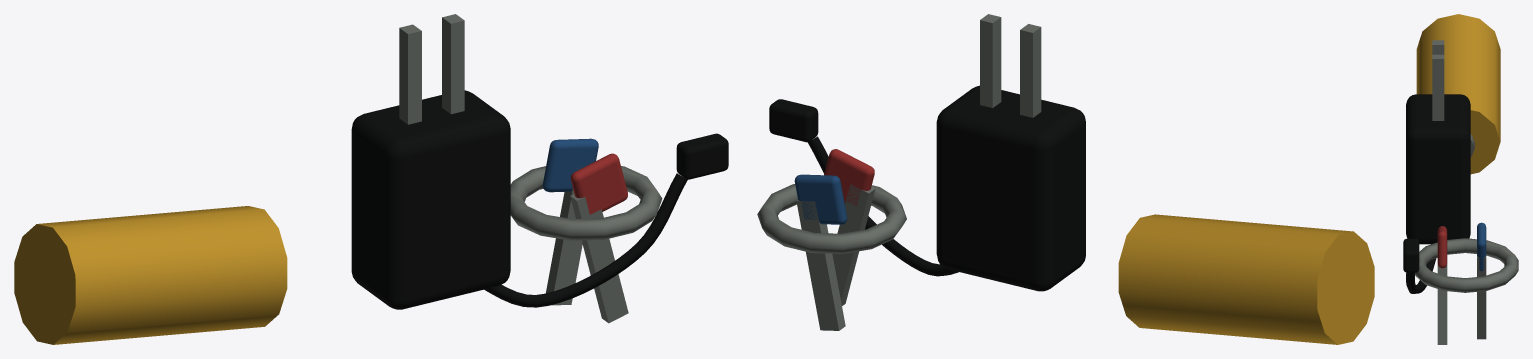
Rendered from ucb_survival_pickup_set_psx.glb.
The picture shows the model from 3 angles, left to right: view 1: azimuth 30°, elevation 25°; view 2: azimuth 150°, elevation 25°; view 3: azimuth 270°, elevation 25°; orthographic projection. The views are drawn at different scales.
Visible parts, largest first — view 1: battery_body, charger_brick, keyring, plug_prong (×2), key_head (×2), charger_cable, key_2, nokia_plug, key_1; view 2: battery_body, charger_brick, keyring, plug_prong (×2), key_head (×2), key_1, key_2, nokia_plug, charger_cable; view 3: charger_brick, battery_body, keyring, plug_prong (×2), key_head (×2), key_2, key_1, nokia_plug, charger_cable.
Boxes of the visible parts, x1=… form: battery_body: x1=14, y1=206, x2=287, y2=344; charger_brick: x1=351, y1=90, x2=510, y2=309; keyring: x1=510, y1=166, x2=662, y2=240; plug_prong (×2): x1=399, y1=14, x2=464, y2=124; key_head (×2): x1=542, y1=138, x2=627, y2=214; charger_cable: x1=484, y1=173, x2=687, y2=307; key_2: x1=570, y1=194, x2=628, y2=323; nokia_plug: x1=676, y1=133, x2=728, y2=179; key_1: x1=546, y1=167, x2=582, y2=305; battery_body: x1=1118, y1=214, x2=1374, y2=344; charger_brick: x1=936, y1=85, x2=1085, y2=291; keyring: x1=757, y1=184, x2=906, y2=253; plug_prong (×2): x1=980, y1=14, x2=1041, y2=117; key_head (×2): x1=794, y1=149, x2=874, y2=224; key_1: x1=796, y1=200, x2=845, y2=330; key_2: x1=832, y1=184, x2=875, y2=305; nokia_plug: x1=769, y1=99, x2=818, y2=142; charger_cable: x1=808, y1=136, x2=958, y2=276; charger_brick: x1=1406, y1=94, x2=1470, y2=244; battery_body: x1=1416, y1=14, x2=1500, y2=174; keyring: x1=1415, y1=238, x2=1518, y2=292; plug_prong (×2): x1=1432, y1=40, x2=1444, y2=120; key_head (×2): x1=1437, y1=222, x2=1486, y2=271; key_2: x1=1437, y1=264, x2=1447, y2=344; key_1: x1=1477, y1=256, x2=1486, y2=339; nokia_plug: x1=1403, y1=238, x2=1419, y2=272; charger_cable: x1=1406, y1=258, x2=1436, y2=293.
Size of the model in its own units: 3.81 by 1.91 by 0.8548.
